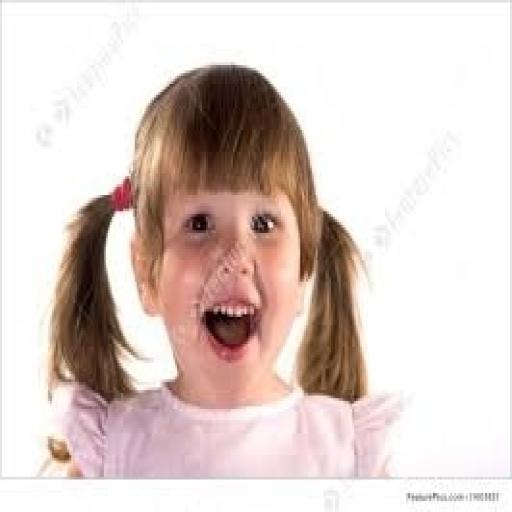laughing: (38, 54, 402, 472)
